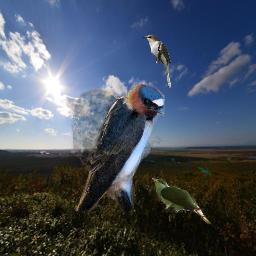Cuckoo: (151, 178, 212, 224), (142, 34, 171, 88)
Swallow: (71, 82, 165, 211)
